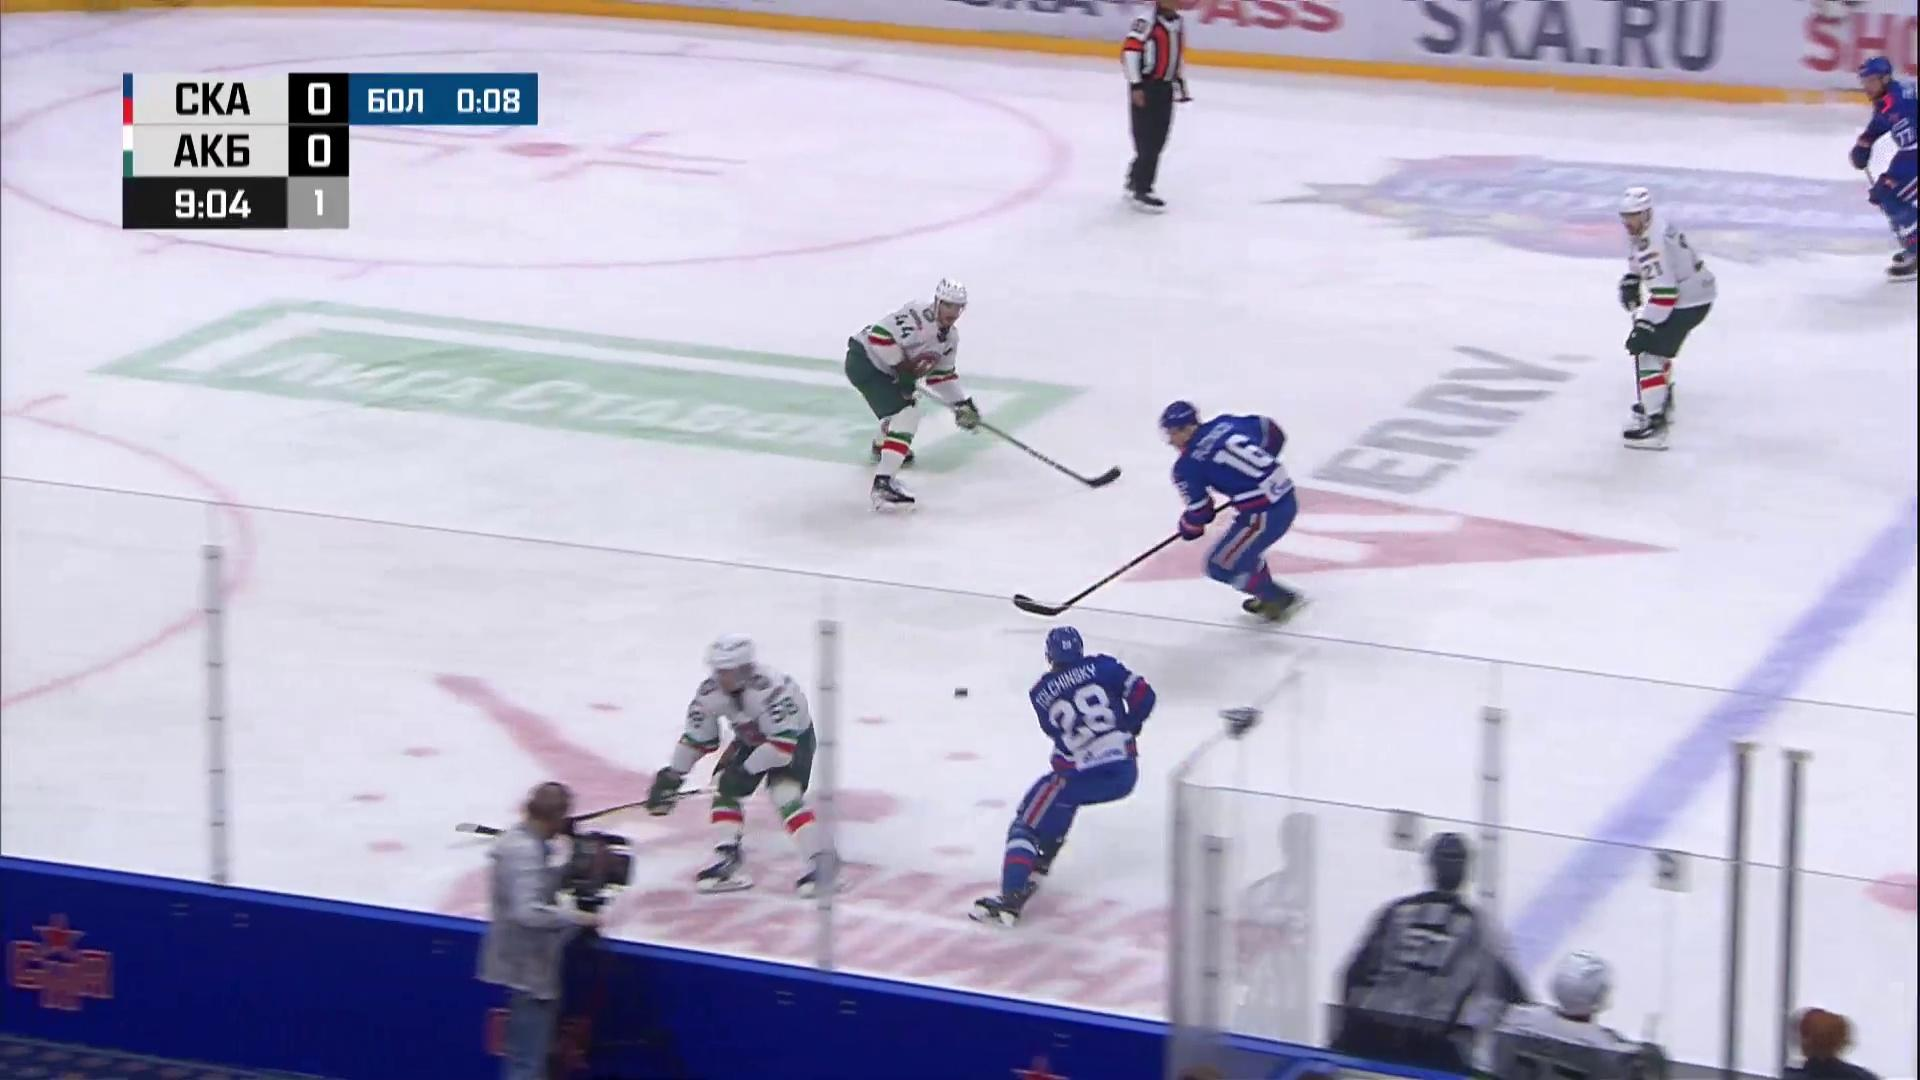ball: (955, 687, 969, 698)
